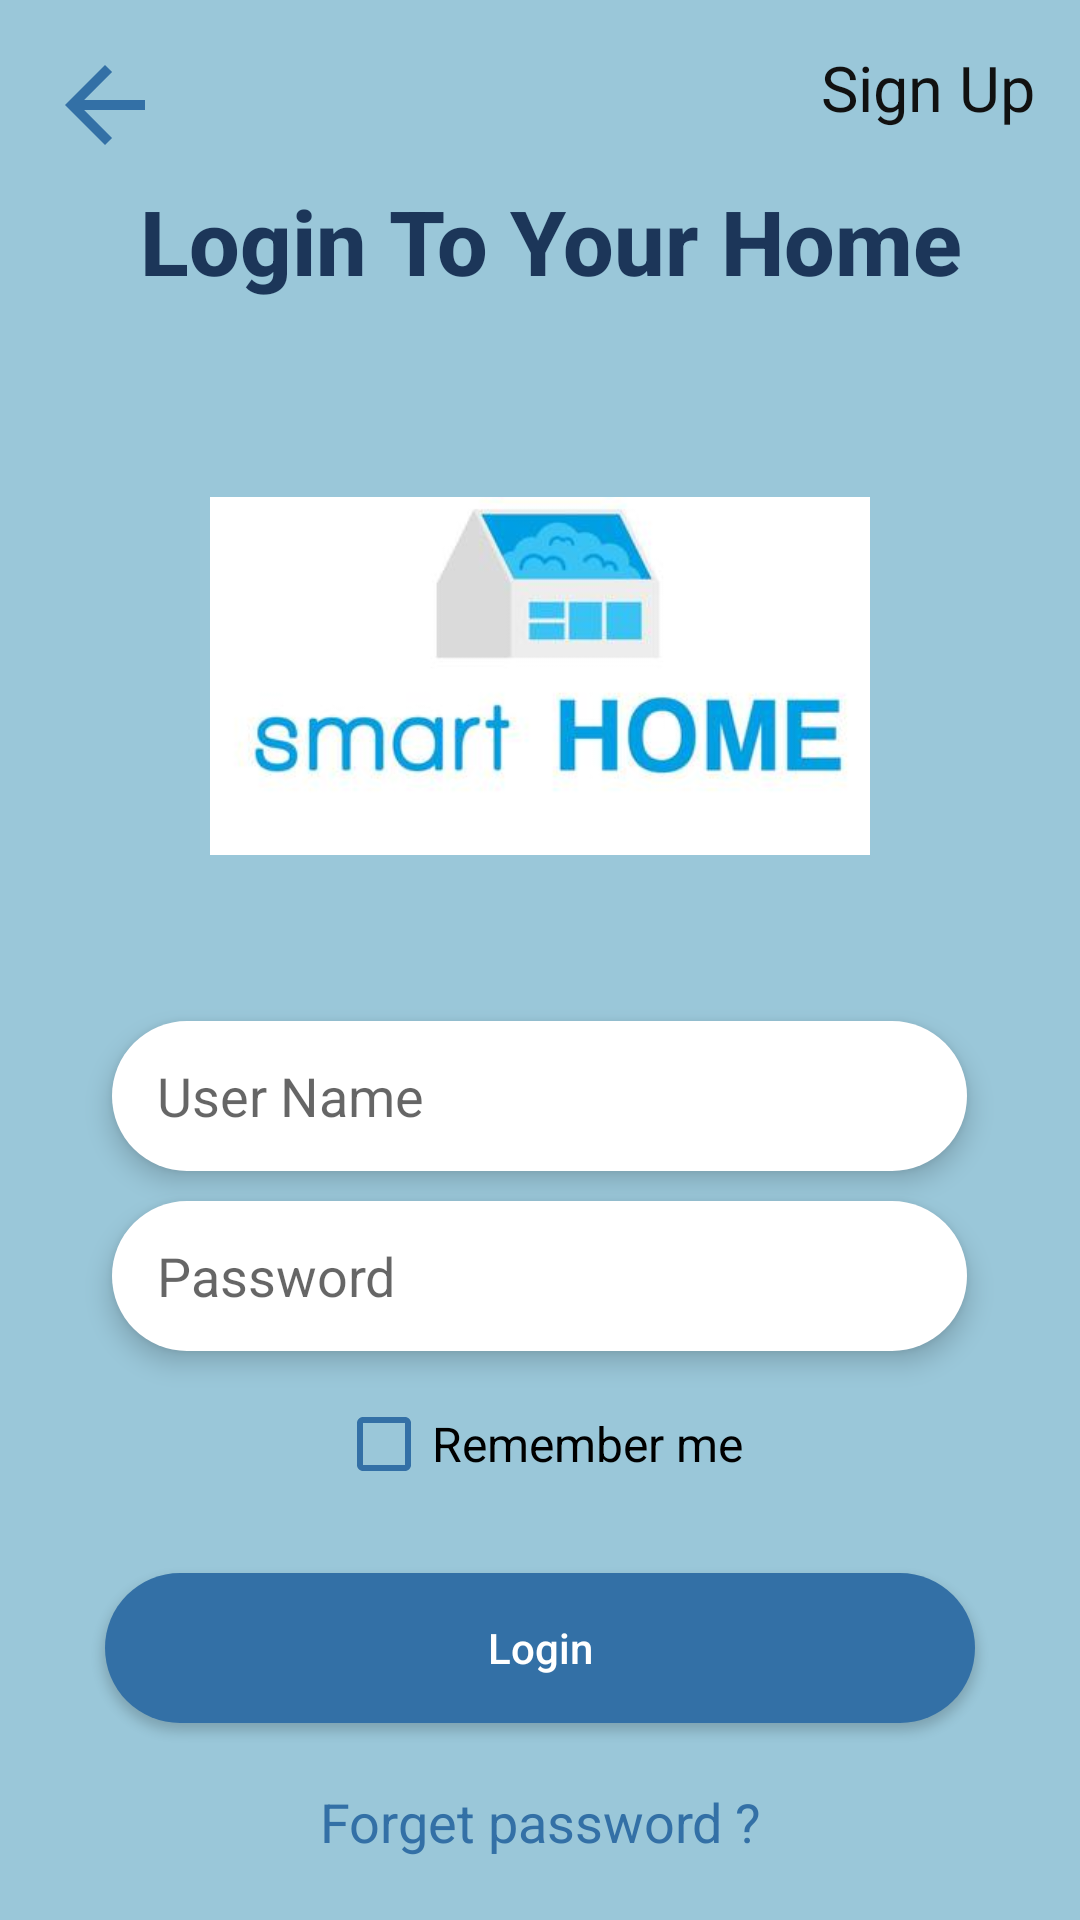

Screen size 1080w x 1920h. Icon name, then its box in pixels as (x1, y1, x2, y2):
arrow back: (65, 65, 145, 145)
